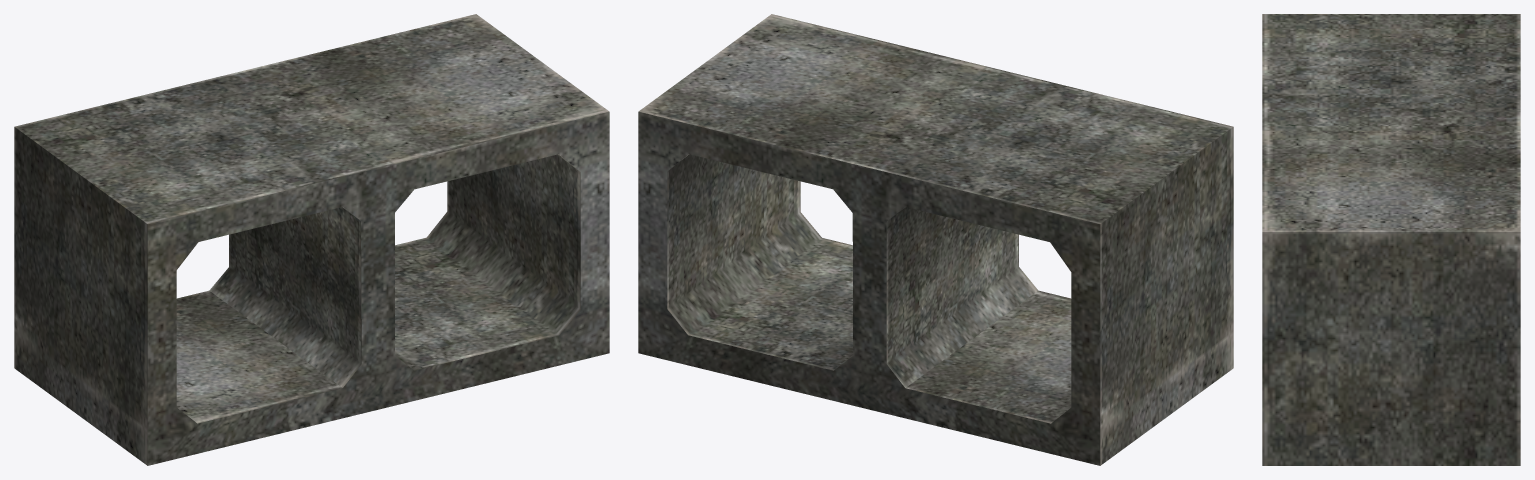
Rendered from p_glo_cinder_block_big_lod2.glb.
3 views of the same model, side by side, from view 1: azimuth 30°, elevation 25°; view 2: azimuth 150°, elevation 25°; view 3: azimuth 270°, elevation 25° (orthographic). The views are drawn at different scales.
Visible parts, largest first — view 1: p_glo_cinder_block_lod2; view 2: p_glo_cinder_block_lod2; view 3: p_glo_cinder_block_lod2.
Part boxes in pixels (box(x1,y1,x2,y2)): p_glo_cinder_block_lod2: box(14, 14, 609, 465); p_glo_cinder_block_lod2: box(638, 14, 1233, 465); p_glo_cinder_block_lod2: box(1262, 14, 1520, 465).
Size of the model in its own units: 24 by 12 by 12.
1 material, 1 textured.
